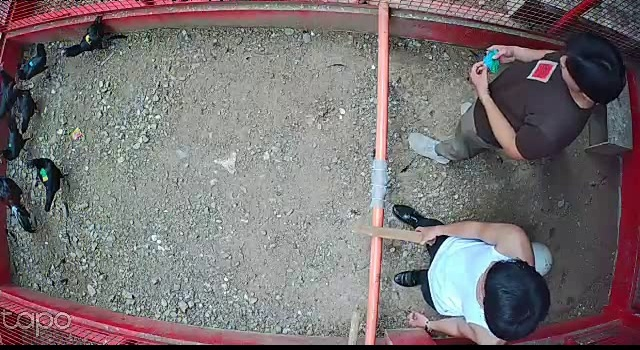Chicken: (61, 11, 112, 62), (25, 156, 71, 212), (0, 117, 36, 171), (15, 41, 52, 86), (11, 84, 43, 133)
Rooster: (0, 174, 40, 233)
Saddle_Color_Blue: (29, 60, 35, 69)
Saddle_Color_Yellow: (84, 33, 93, 47)
Saddle_Color_YellowGreen: (40, 166, 49, 182)
